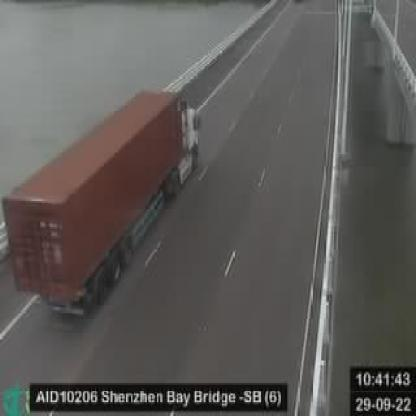Truck: (0, 71, 203, 335)
